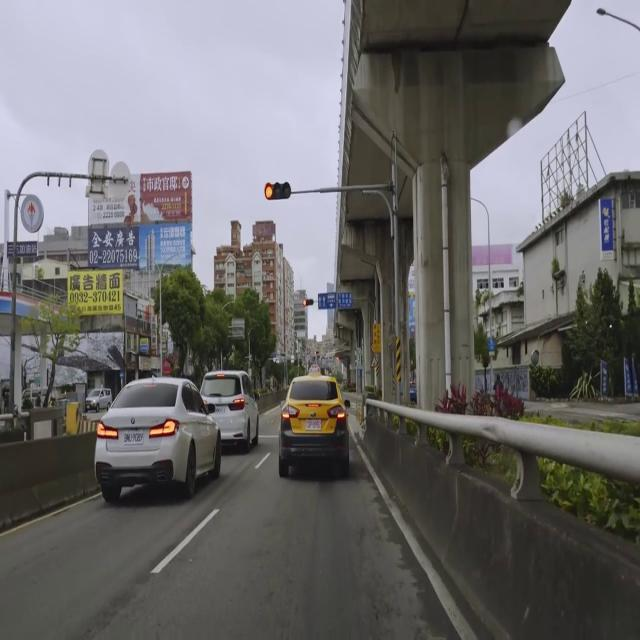red light: (264, 182, 291, 200), (302, 298, 314, 307)
